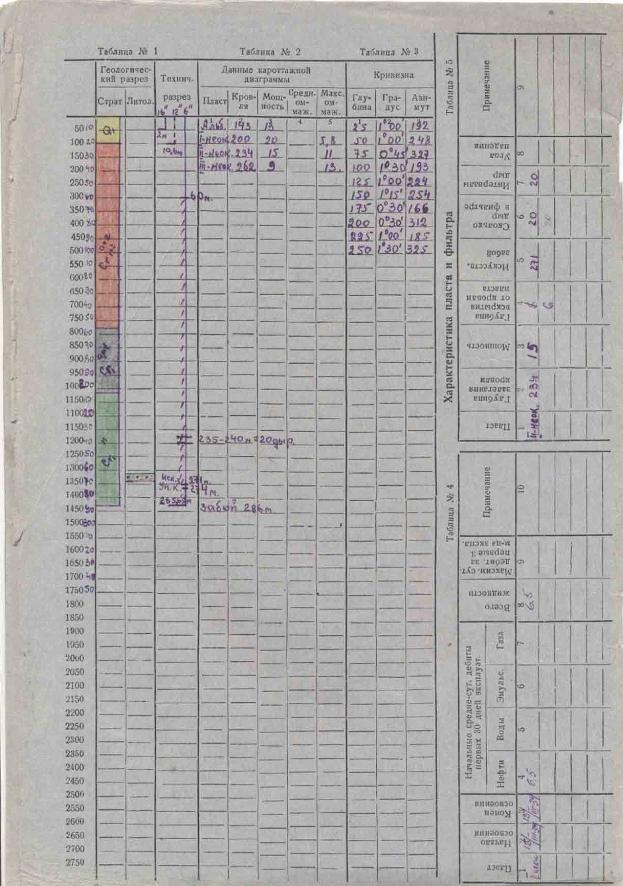Bordered: (345, 57, 442, 268)
